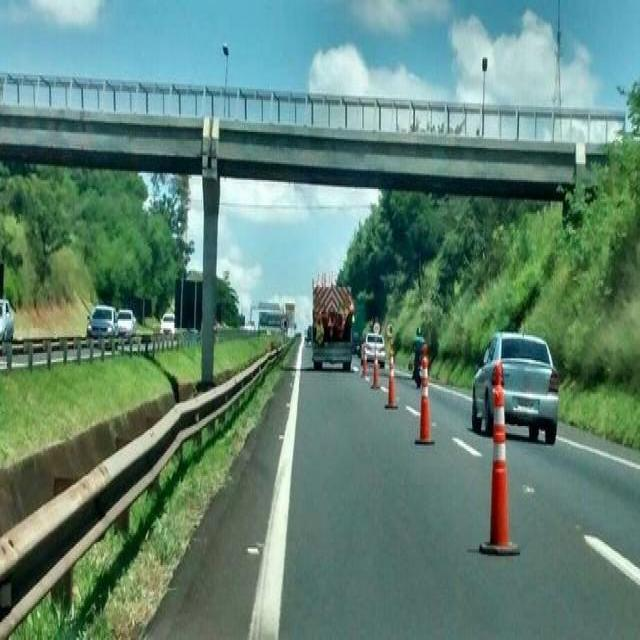cone: (478, 366, 524, 552), (412, 337, 433, 442)
